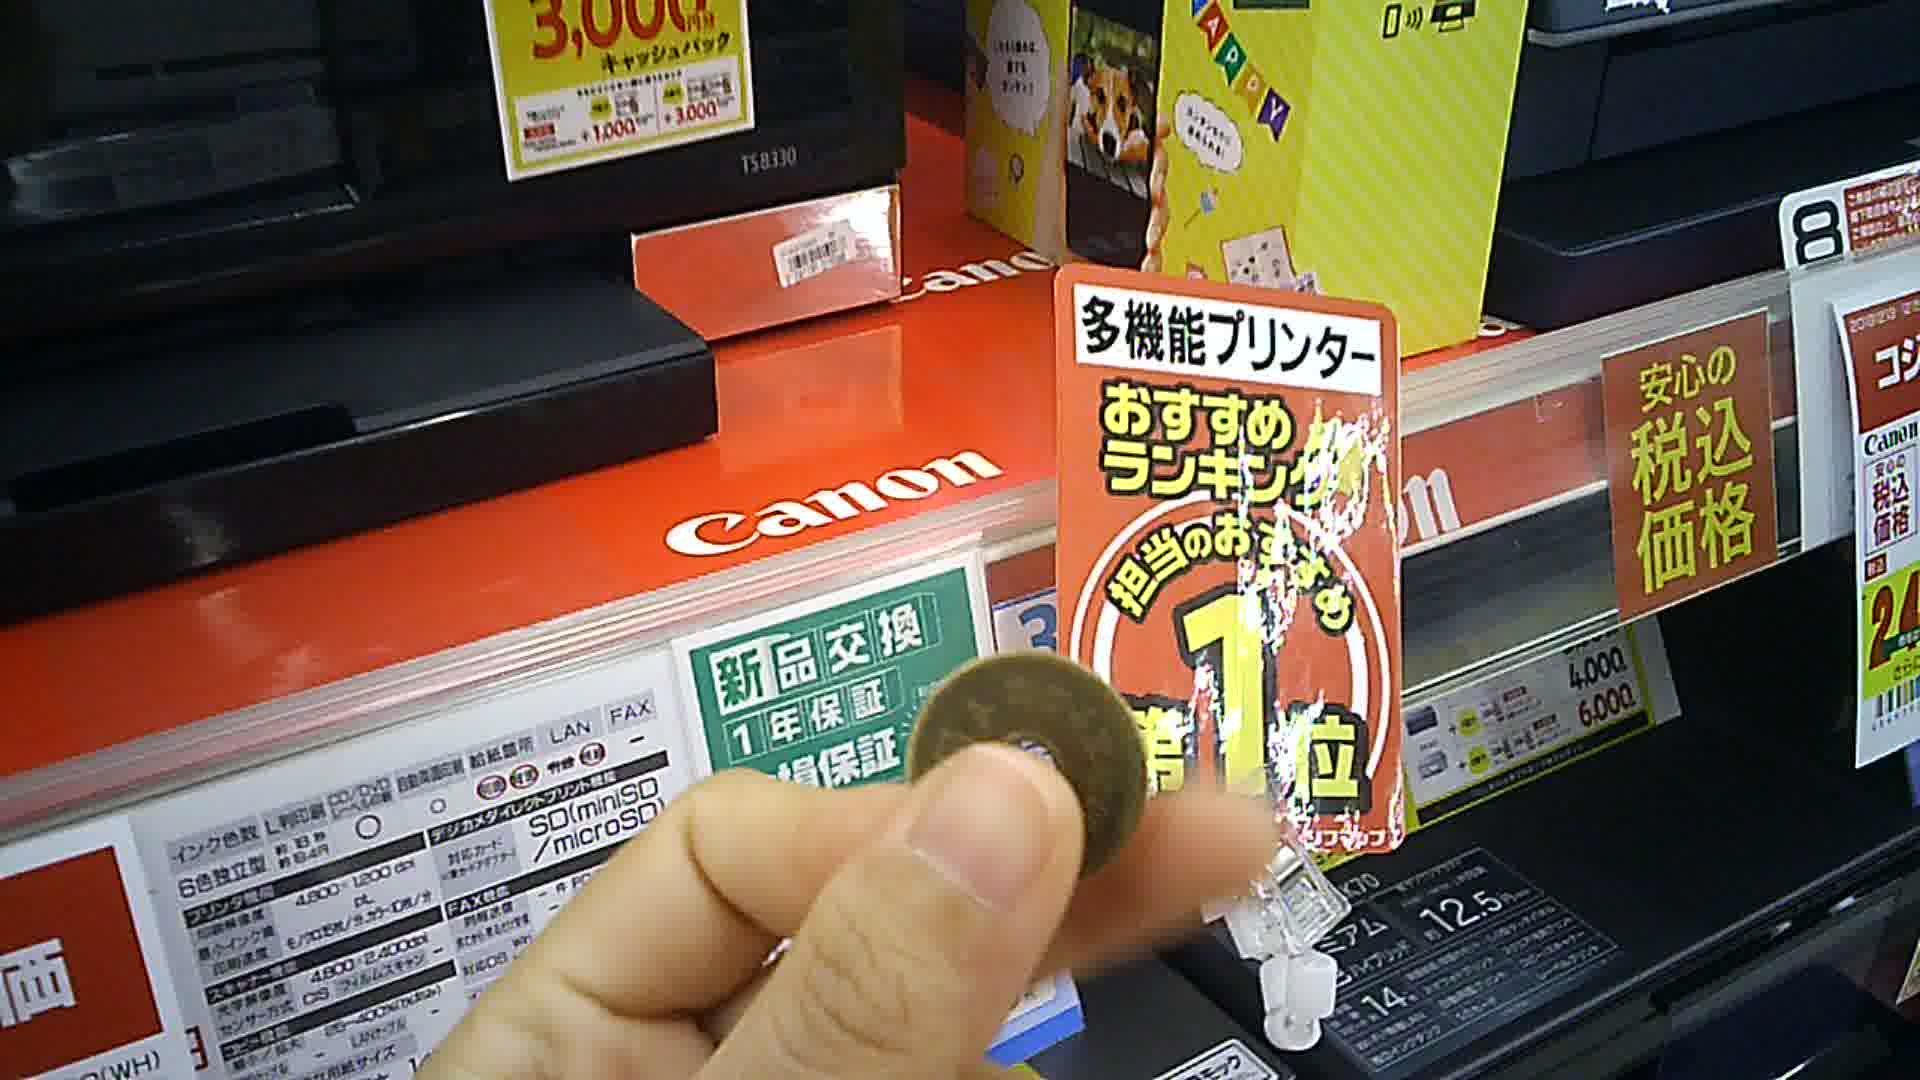5 Yen: (895, 636, 1146, 898)
